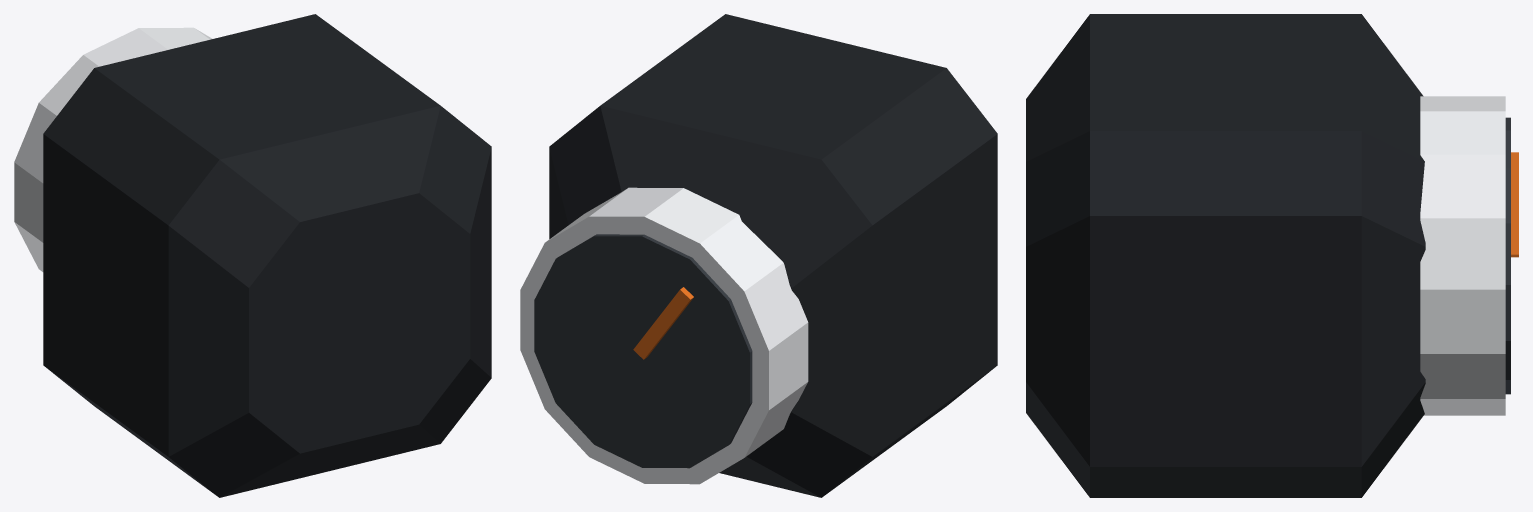
File: ridgeback_4x4.glb
The picture shows the model from 3 angles, left to right: view 1: azimuth 30°, elevation 25°; view 2: azimuth 150°, elevation 25°; view 3: azimuth 270°, elevation 25°; orthographic projection. The views are drawn at different scales.
Parts seen in each view (by area): view 1: model; view 2: model; view 3: model.
Boxes of the visible parts, x1,y1,x2,y2 form: model: (14, 14, 491, 497); model: (520, 14, 997, 497); model: (1026, 14, 1518, 497).
Bounding box in the file's own units: 0.076 × 0.076 × 0.0925.
2 materials, 1 textured.
